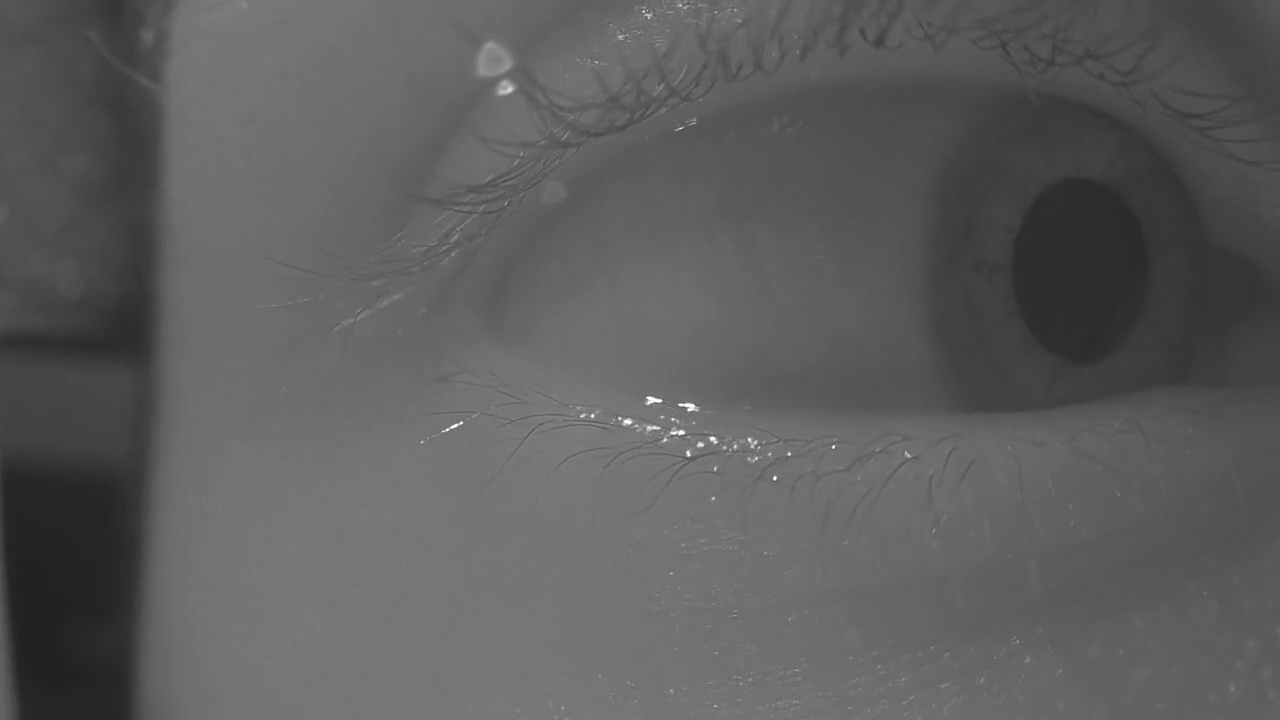pupil: (1014, 179, 1148, 363)
